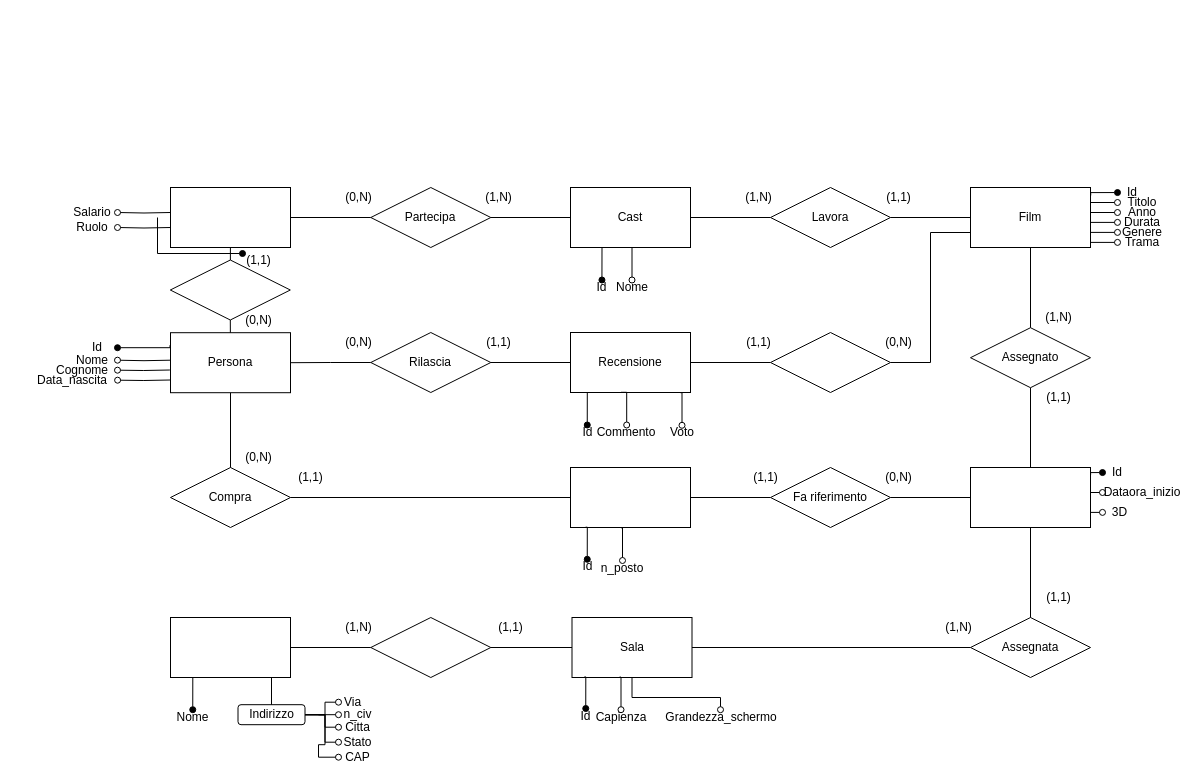
Some shapes in this 1200 by 783 pixel diagram are drawn without their labels. The box of each missing label's shape, as (x1, y1, x2, y2) in pixels:
Appartiene: (370, 616, 491, 678)
Biglietto: (570, 466, 690, 528)
Cinema: (170, 616, 290, 678)
Lavoratore: (170, 186, 290, 248)
Lavoratore_Persona: (169, 259, 290, 320)
Ottiene: (770, 332, 890, 392)
Spettacolo: (970, 466, 1090, 528)
